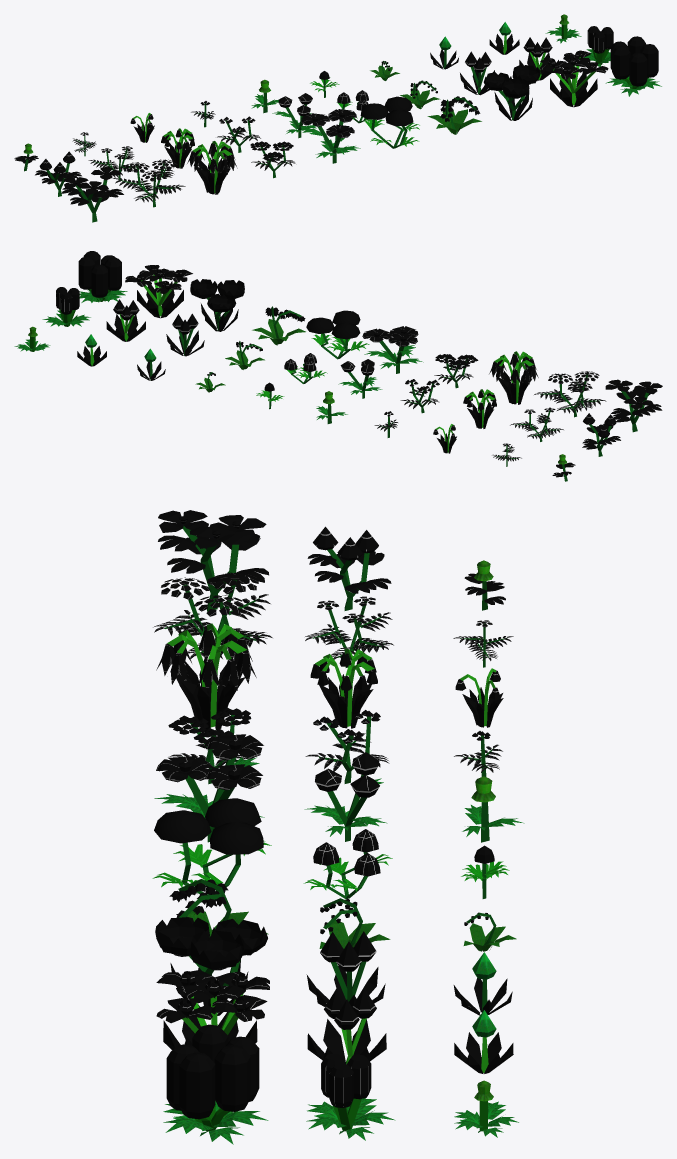
File: FlowersLvl4Wild.fbx
3 renders of one model, top to bottom at view 1: azimuth 30°, elevation 25°; view 2: azimuth 150°, elevation 25°; view 3: azimuth 270°, elevation 25°, orthographic. The views are drawn at different scales.
Visible parts, largest first — view 1: Delphinium3, Iris3, Crocus3, Buttercup3, Poppy3, Snowdrop3, Celandine3, Yarrow3, LilyOfTheValley3, Delphinium2, Snowdrop2, Celandine2 (+13 smaller); view 2: Delphinium3, Iris3, Crocus3, Buttercup3, Celandine3, Snowdrop3, Poppy3, Yarrow3, Delphinium2, Iris2, LilyOfTheValley3, Crocus2 (+11 smaller); view 3: Delphinium3, Buttercup3, Snowdrop3, Iris3, Celandine3, Crocus3, Poppy3, Delphinium2, Yarrow3, Iris2, Snowdrop2, Celandine2 (+16 smaller).
Boxes of the visible parts, box(x1,y1,x2,y2) form: Delphinium3: box(605, 36, 661, 96); Iris3: box(540, 50, 608, 107); Crocus3: box(483, 65, 540, 120); Buttercup3: box(360, 96, 419, 148); Poppy3: box(299, 109, 360, 163); Snowdrop3: box(187, 141, 237, 194); Celandine3: box(61, 167, 123, 222); Yarrow3: box(112, 159, 185, 207); LilyOfTheValley3: box(427, 96, 481, 134); Delphinium2: box(584, 26, 613, 66); Snowdrop2: box(161, 128, 194, 168); Celandine2: box(35, 151, 81, 196); Delphinium3: box(78, 251, 127, 302); Iris3: box(125, 265, 192, 318); Crocus3: box(190, 279, 244, 331); Buttercup3: box(306, 310, 369, 359); Celandine3: box(605, 379, 662, 432); Snowdrop3: box(489, 351, 538, 404); Poppy3: box(362, 326, 423, 373); Yarrow3: box(534, 371, 606, 417); Delphinium2: box(42, 287, 90, 326); Iris2: box(106, 299, 145, 341); LilyOfTheValley3: box(252, 306, 305, 345); Crocus2: box(166, 313, 204, 356); Delphinium3: box(163, 1024, 268, 1144); Buttercup3: box(152, 798, 271, 894); Snowdrop3: box(156, 623, 256, 729); Iris3: box(156, 970, 269, 1049); Celandine3: box(158, 510, 268, 611); Crocus3: box(155, 917, 267, 1015); Poppy3: box(154, 734, 264, 842); Delphinium2: box(306, 1053, 395, 1140); Yarrow3: box(153, 572, 272, 660); Iris2: box(307, 988, 386, 1063); Snowdrop2: box(310, 649, 377, 728); Celandine2: box(307, 526, 391, 610).
Size of the model in its own units: 984 by 74.13 by 273.
